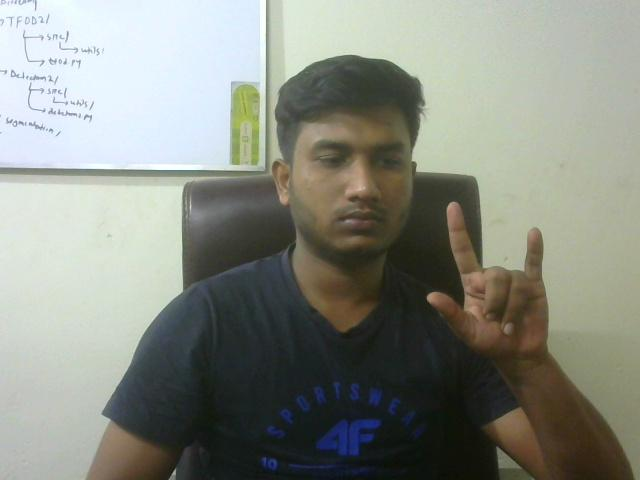IloveYou: (411, 194, 574, 373)
